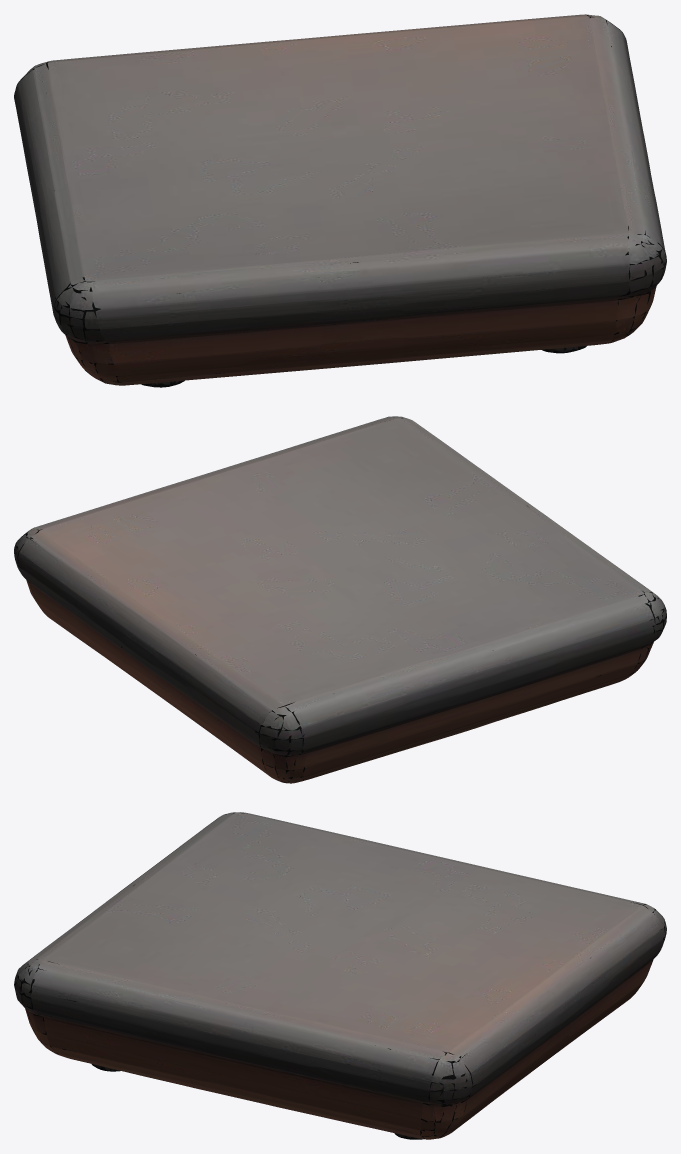
File: black_laptop_partially_visible_on_the_wooden_cabinet_000.glb
3 renders of one model, top to bottom at view 1: azimuth 30°, elevation 25°; view 2: azimuth 150°, elevation 25°; view 3: azimuth 270°, elevation 25°, orthographic. The views are drawn at different scales.
Visible parts, largest first — view 1: black_laptop_partially_visible_on_the_wooden_cabinet_000.obj; view 2: black_laptop_partially_visible_on_the_wooden_cabinet_000.obj; view 3: black_laptop_partially_visible_on_the_wooden_cabinet_000.obj.
Part boxes in pixels (left/top/right/bottom): black_laptop_partially_visible_on_the_wooden_cabinet_000.obj: left=14, top=14, right=666, bottom=387; black_laptop_partially_visible_on_the_wooden_cabinet_000.obj: left=14, top=416, right=666, bottom=783; black_laptop_partially_visible_on_the_wooden_cabinet_000.obj: left=14, top=812, right=666, bottom=1139.
Bounding box in the file's own units: 0.092 × 0.0214 × 0.0915.
1 material, 1 textured.
